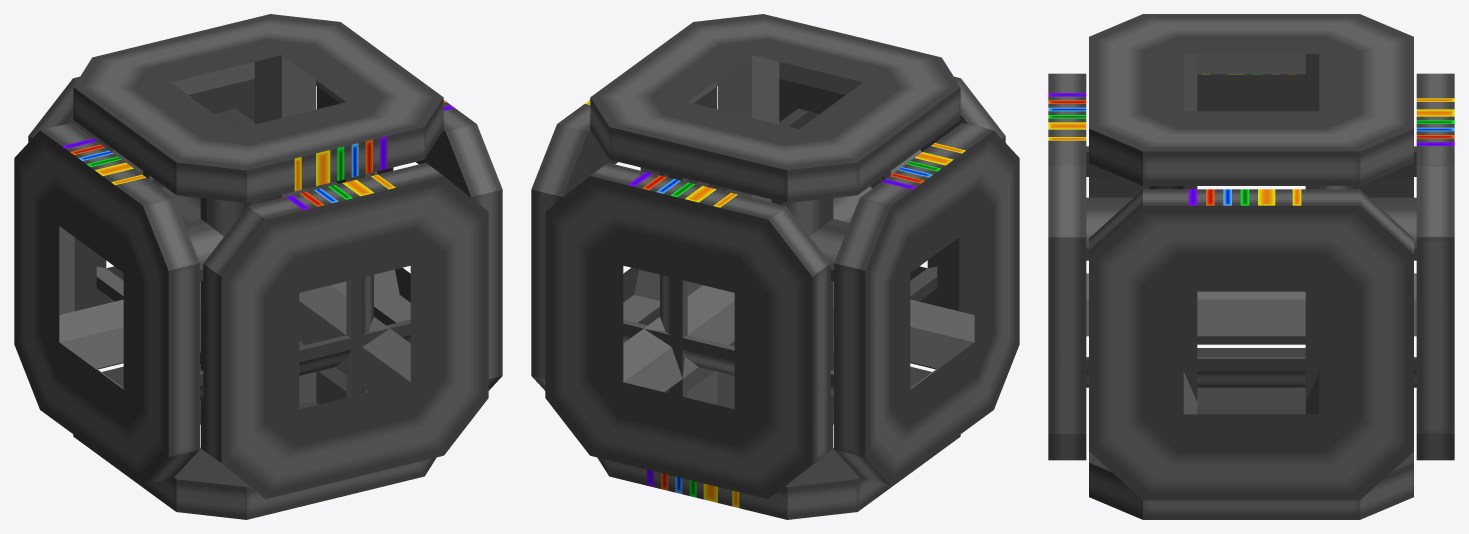
File: pipe_routed.obj
3 views of the same model, side by side, from view 1: azimuth 30°, elevation 25°; view 2: azimuth 150°, elevation 25°; view 3: azimuth 270°, elevation 25° (orthographic). The views are drawn at different scales.
Parts seen in each view (by area): view 1: CDOWN, CWEST, CSOUTH, CNORTH, CEAST, CENTER, SOUTH, CUP, WEST, DOWN, UP, EAST (+1 smaller); view 2: CUP, CWEST, CSOUTH, CNORTH, CEAST, CENTER, SOUTH, CDOWN, WEST, UP, DOWN, EAST (+1 smaller); view 3: CEAST, CSOUTH, CUP, CDOWN, CNORTH, CENTER, CWEST, SOUTH, DOWN, UP, EAST, NORTH.
Boxes of the visible parts, x1,y1,x2,y2 form: CDOWN: (203, 163, 488, 498); CWEST: (14, 122, 199, 484); CSOUTH: (73, 14, 443, 202); CNORTH: (73, 366, 436, 519); CEAST: (317, 86, 502, 390); CENTER: (161, 181, 373, 375); SOUTH: (143, 55, 373, 236); CUP: (28, 76, 254, 369); WEST: (59, 179, 223, 399); DOWN: (335, 317, 410, 392); UP: (96, 108, 254, 301); EAST: (331, 269, 410, 346); CUP: (545, 163, 830, 498); CWEST: (834, 122, 1019, 484); CSOUTH: (590, 14, 960, 202); CNORTH: (597, 366, 960, 519); CEAST: (531, 86, 716, 390); CENTER: (660, 181, 872, 375); SOUTH: (660, 55, 890, 236); CDOWN: (779, 76, 1005, 369); WEST: (810, 179, 974, 399); UP: (623, 317, 698, 392); DOWN: (779, 108, 937, 301); EAST: (623, 269, 702, 346); CEAST: (1089, 189, 1413, 500); CSOUTH: (1089, 14, 1413, 185); CUP: (1416, 73, 1454, 460); CDOWN: (1048, 73, 1086, 460); CNORTH: (1089, 348, 1413, 519); CENTER: (1183, 291, 1319, 387); CWEST: (1089, 74, 1413, 344); SOUTH: (1150, 54, 1352, 189); DOWN: (1086, 146, 1133, 387); UP: (1369, 146, 1416, 387); EAST: (1183, 372, 1319, 414); NORTH: (1184, 371, 1318, 401).
Size of the model in its own units: 1 by 1 by 1.
